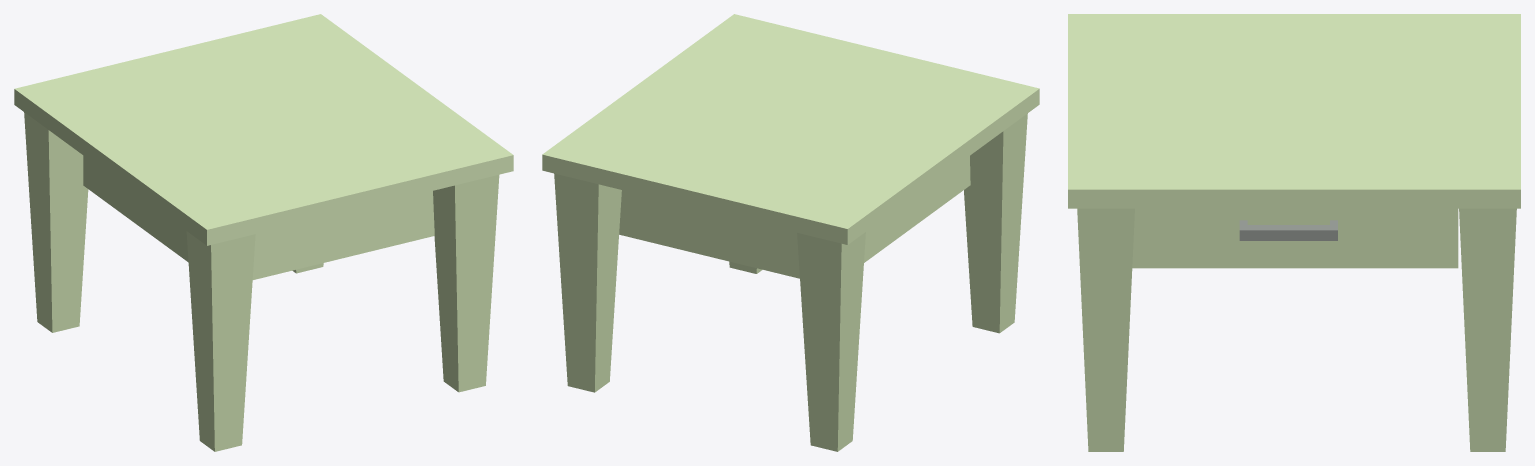
Rendered from Ratonera.fbx.
3 renders of one model, left to right at view 1: azimuth 30°, elevation 25°; view 2: azimuth 150°, elevation 25°; view 3: azimuth 270°, elevation 25°, orthographic. The views are drawn at different scales.
Visible parts, largest first — view 1: MesaRatonera; view 2: MesaRatonera; view 3: MesaRatonera.
Boxes of the visible parts, x1,y1,x2,y2 form: MesaRatonera: [14, 14, 513, 451]; MesaRatonera: [542, 14, 1039, 451]; MesaRatonera: [1068, 14, 1520, 451].
Bounding box in the file's own units: 208 × 150 × 226.
